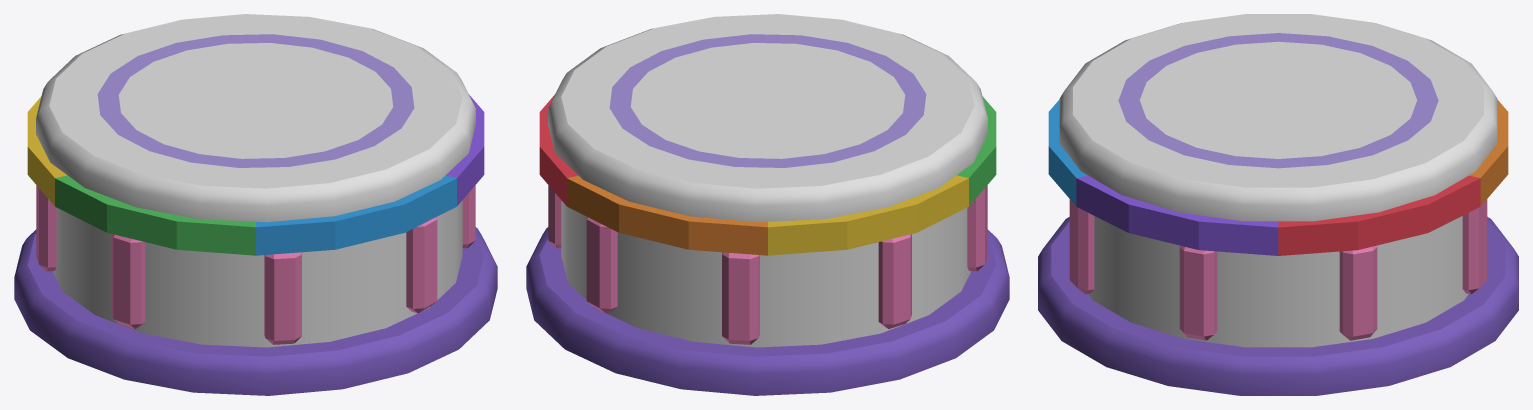
File: carnival-podium.glb
3 views of the same model, side by side, from view 1: azimuth 30°, elevation 25°; view 2: azimuth 150°, elevation 25°; view 3: azimuth 270°, elevation 25° (orthographic).
Parts seen in each view (by area): view 1: carnival-podium; view 2: carnival-podium; view 3: carnival-podium.
Part boxes in pixels (x1,y1,x2,y2): carnival-podium: [14, 14, 497, 395]; carnival-podium: [526, 14, 1009, 395]; carnival-podium: [1038, 14, 1518, 395].
Size of the model in its own units: 0.9008 by 0.401 by 0.9008.
